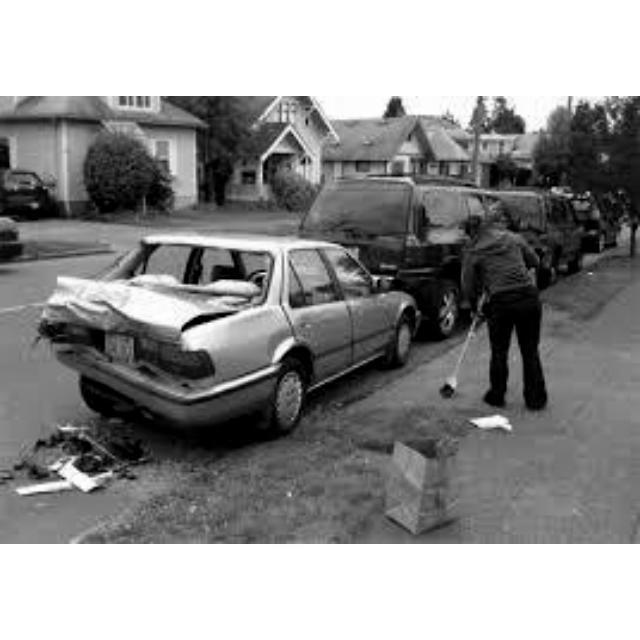Rear-windscreen-Damage: (149, 231, 270, 302)
boot-dent: (50, 266, 210, 337)
